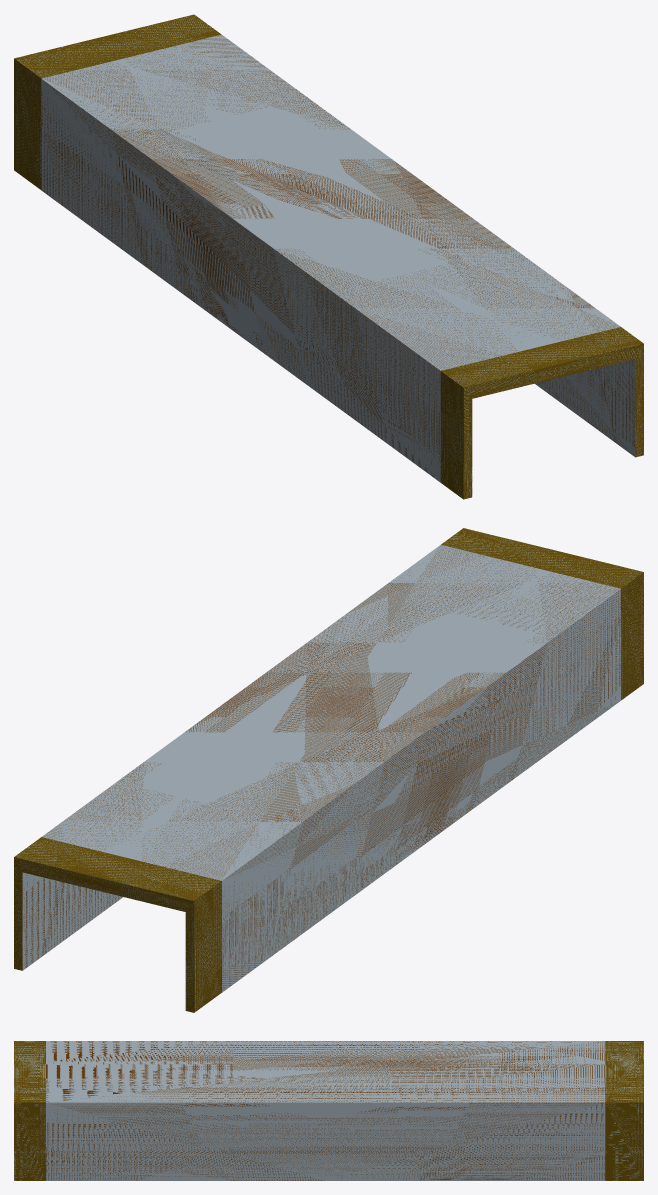
The model's file is Boat.fbx.
3 renders of one model, top to bottom at view 1: azimuth 30°, elevation 25°; view 2: azimuth 150°, elevation 25°; view 3: azimuth 270°, elevation 25°, orthographic. The views are drawn at different scales.
Visible parts, largest first — view 1: Model; view 2: Model; view 3: Model.
Boxes of the visible parts, x1,y1,x2,y2 form: Model: (14,14,643,499); Model: (14,528,643,1012); Model: (14,1041,643,1180).
Bounding box in the file's own units: 67.19 × 39.81 × 290.
